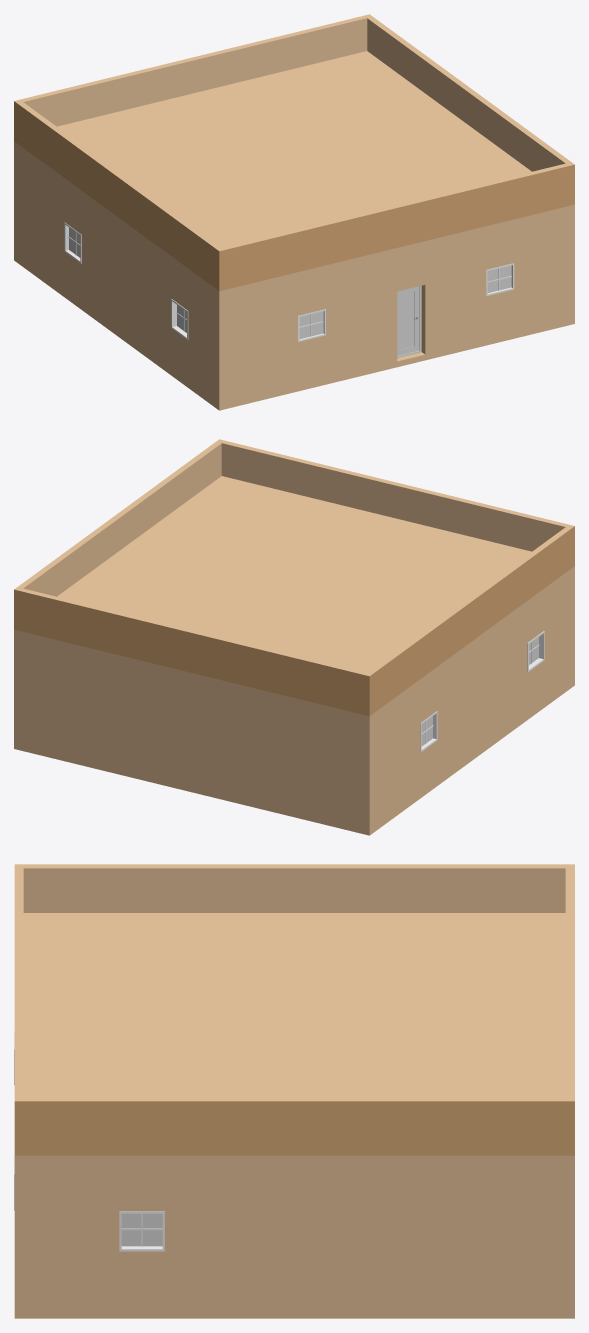
Rendered from House_1.fbx.
3 views of the same model, one above another, from view 1: azimuth 30°, elevation 25°; view 2: azimuth 150°, elevation 25°; view 3: azimuth 270°, elevation 25° (orthographic). The views are drawn at different scales.
Parts seen in each view (by area): view 1: House_1_Body, House_1_Door.001, House_1_Window.006, House_1_Window.003; view 2: House_1_Body; view 3: House_1_Body, House_1_Window.002.
Boxes of the visible parts, <box> form: House_1_Body: <box>14,14,574,410</box>; House_1_Door.001: <box>397,285,421,357</box>; House_1_Window.006: <box>299,311,323,338</box>; House_1_Window.003: <box>487,265,511,292</box>; House_1_Body: <box>14,439,574,835</box>; House_1_Body: <box>14,864,574,1318</box>; House_1_Window.002: <box>121,1214,162,1246</box>.
Size of the model in its own units: 1283 by 547 by 1280.
